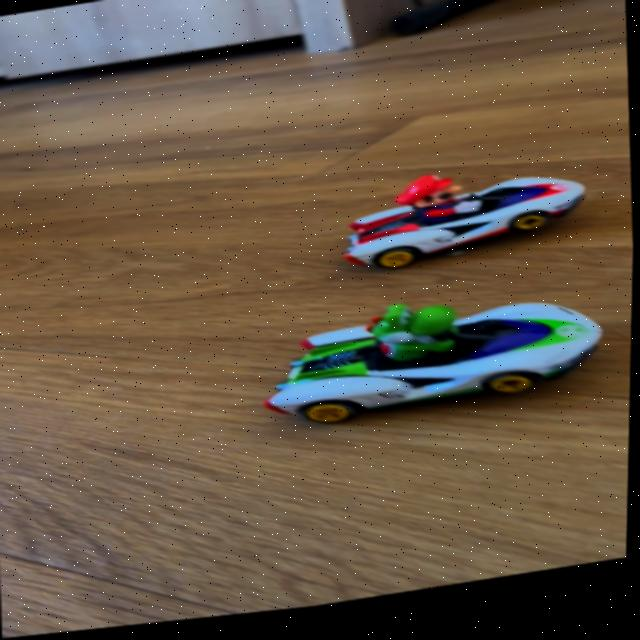mario: (331, 159, 600, 286)
yoshi: (248, 283, 618, 453)
